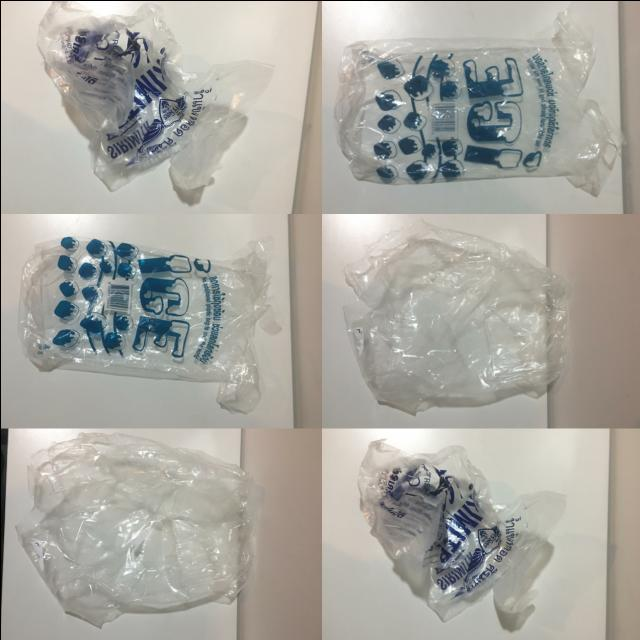plastik: (333, 12, 619, 196), (15, 432, 260, 626), (36, 0, 273, 191), (17, 236, 269, 413), (343, 221, 566, 413), (357, 440, 565, 621)
